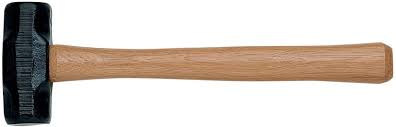hammer: (1, 1, 394, 127)
